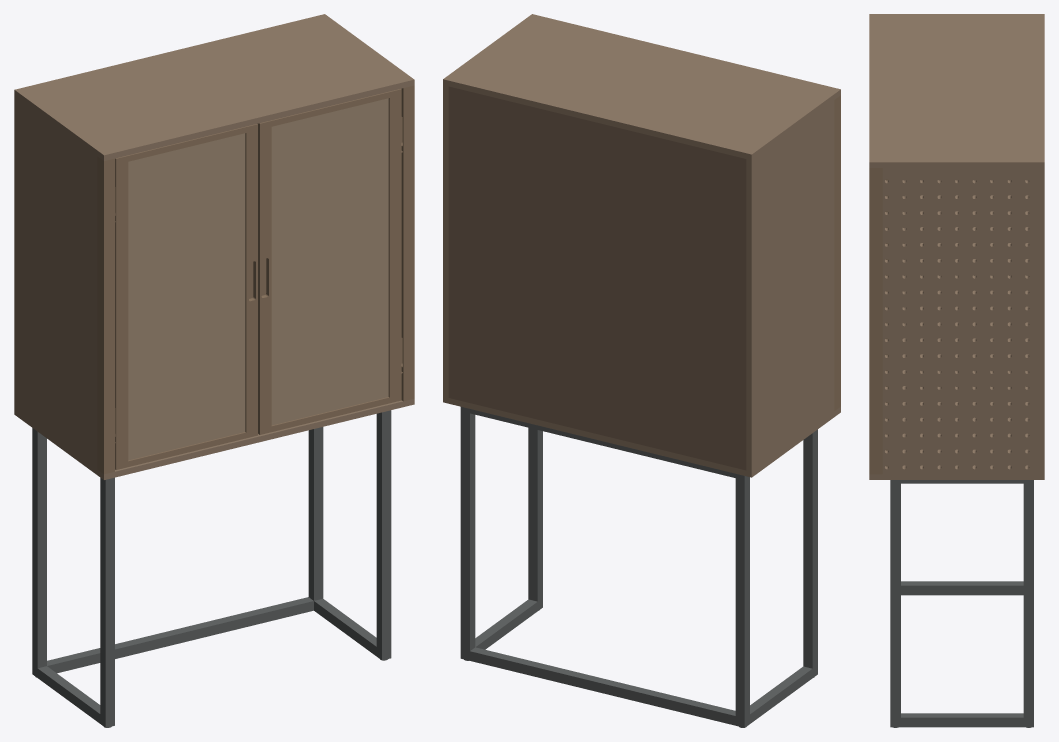
The model's file is closed.glb.
3 views of the same model, side by side, from view 1: azimuth 30°, elevation 25°; view 2: azimuth 150°, elevation 25°; view 3: azimuth 270°, elevation 25° (orthographic). The views are drawn at different scales.
Parts seen in each view (by area): view 1: L-front-panel, R-front-panel, B01-top, B02-left-side, L-jamb, R-jamb, R-meeting-stile, L-hinge-stile, R-hinge-stile, L-meeting-stile, A0-post-1-0, A2-low-rear (+10 smaller); view 2: B04-back, B01-top, B02-left-side, A2-low-rear, A0-post-1-1, A0-post-0-1, A0-post-0-0, A0-post-1-0, B00-bottom, L-jamb, B03-right-pegboard, A1-width-1 (+2 smaller); view 3: B03-right-pegboard, B01-top, R-jamb, A0-post-1-0, A0-post-1-1, A2-low-depth-0, A2-low-depth-1, B00-bottom, A1-depth-1.
Part boxes in pixels (x1,y1,x2,y2): L-front-panel: (128, 133, 245, 460); R-front-panel: (271, 98, 388, 425); B01-top: (14, 14, 414, 160); B02-left-side: (14, 96, 97, 468); L-jamb: (97, 156, 114, 474); R-jamb: (401, 85, 414, 401); R-meeting-stile: (257, 120, 271, 434); L-hinge-stile: (115, 155, 128, 469); R-hinge-stile: (388, 89, 401, 403); L-meeting-stile: (245, 124, 257, 438); A0-post-1-0: (376, 410, 391, 660); A2-low-rear: (47, 597, 313, 673); B04-back: (448, 86, 746, 470); B01-top: (443, 14, 840, 160); B02-left-side: (746, 100, 834, 471); A2-low-rear: (470, 647, 735, 725); A0-post-1-1: (460, 411, 475, 660); A0-post-0-1: (735, 477, 749, 727); A0-post-0-0: (803, 429, 817, 677); A0-post-1-0: (528, 427, 542, 610); B00-bottom: (443, 396, 840, 477); L-jamb: (834, 95, 840, 410); B03-right-pegboard: (443, 85, 448, 397); A1-width-1: (470, 409, 735, 477); B03-right-pegboard: (882, 168, 1044, 474); B01-top: (869, 14, 1044, 167); R-jamb: (869, 168, 882, 474); A0-post-1-0: (890, 483, 900, 727); A0-post-1-1: (1023, 483, 1033, 727); A2-low-depth-0: (901, 581, 1023, 595); A2-low-depth-1: (901, 713, 1023, 727); B00-bottom: (869, 338, 1044, 479); A1-depth-1: (890, 480, 1033, 483).
Size of the model in its own units: 1 by 1.8 by 0.5.
